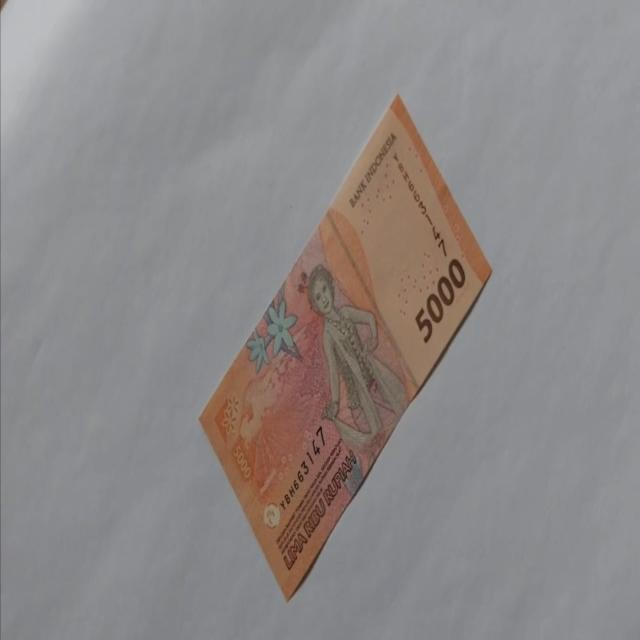lima ribu rupiah: (198, 91, 492, 601)
